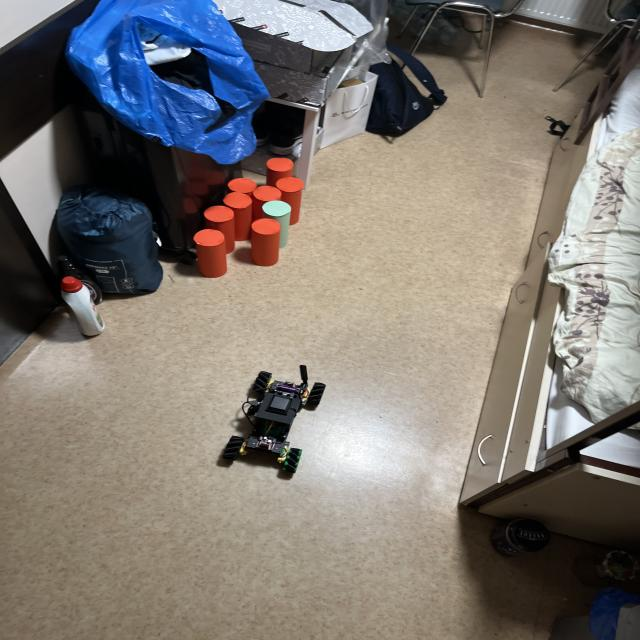robot: (222, 365, 326, 473)
